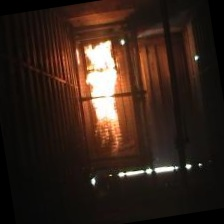fire: (82, 35, 133, 144)
